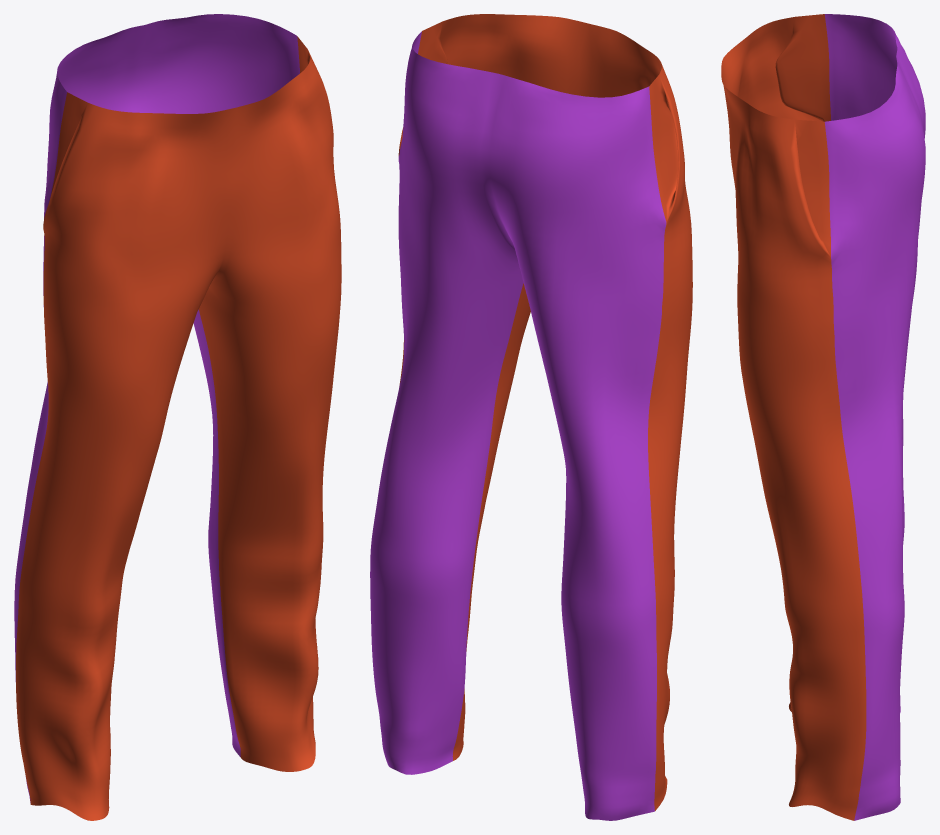
Rendered from SM_CarlosSA_Trousers_Fixed_0001.fbx.
3 renders of one model, left to right at view 1: azimuth 30°, elevation 25°; view 2: azimuth 150°, elevation 25°; view 3: azimuth 270°, elevation 25°, orthographic. The views are drawn at different scales.
Visible parts, largest first — view 1: SM_CarlosSA_Trousers_Fixed_0001; view 2: SM_CarlosSA_Trousers_Fixed_0001; view 3: SM_CarlosSA_Trousers_Fixed_0001.
Boxes of the visible parts, left/top/right/bottom form: SM_CarlosSA_Trousers_Fixed_0001: left=14, top=14, right=341, bottom=820; SM_CarlosSA_Trousers_Fixed_0001: left=370, top=14, right=692, bottom=820; SM_CarlosSA_Trousers_Fixed_0001: left=721, top=14, right=925, bottom=820.
Bounding box in the file's own units: 0.3828 × 0.9266 × 0.2443.
